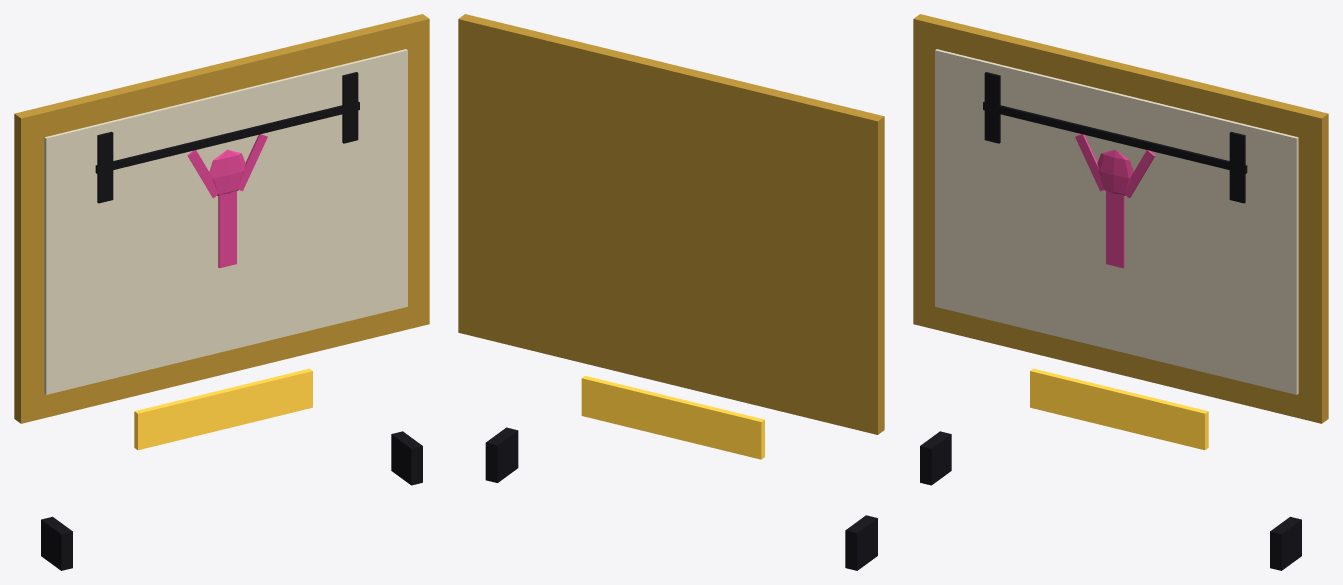
The model's file is gym_record_wall.glb.
3 views of the same model, side by side, from view 1: azimuth 30°, elevation 25°; view 2: azimuth 150°, elevation 25°; view 3: azimuth 330°, elevation 25° (orthographic). The views are drawn at different scales.
Visible parts, largest first — view 1: photo_record_photo, frame_record_frame, plaque_record_plaque, photo_black, photo_record_ink, hooks_black; view 2: frame_record_frame, plaque_record_plaque, hooks_black; view 3: photo_record_photo, frame_record_frame, plaque_record_plaque, photo_black, photo_record_ink, hooks_black.
Part boxes in pixels (x1=…): photo_record_photo: x1=44, y1=49, x2=407, y2=394; frame_record_frame: x1=14, y1=14, x2=429, y2=423; plaque_record_plaque: x1=134, y1=368, x2=312, y2=450; photo_black: x1=95, y1=72, x2=359, y2=203; photo_record_ink: x1=187, y1=134, x2=267, y2=268; hooks_black: x1=41, y1=431, x2=422, y2=570; frame_record_frame: x1=458, y1=14, x2=884, y2=434; plaque_record_plaque: x1=581, y1=376, x2=764, y2=459; hooks_black: x1=485, y1=427, x2=877, y2=570; photo_record_photo: x1=935, y1=49, x2=1298, y2=394; frame_record_frame: x1=913, y1=14, x2=1328, y2=423; plaque_record_plaque: x1=1030, y1=368, x2=1208, y2=450; photo_black: x1=983, y1=72, x2=1247, y2=203; photo_record_ink: x1=1075, y1=134, x2=1155, y2=268; hooks_black: x1=920, y1=431, x2=1301, y2=570.
Bounding box in the file's own units: 1.4 × 1.46 × 0.14.
